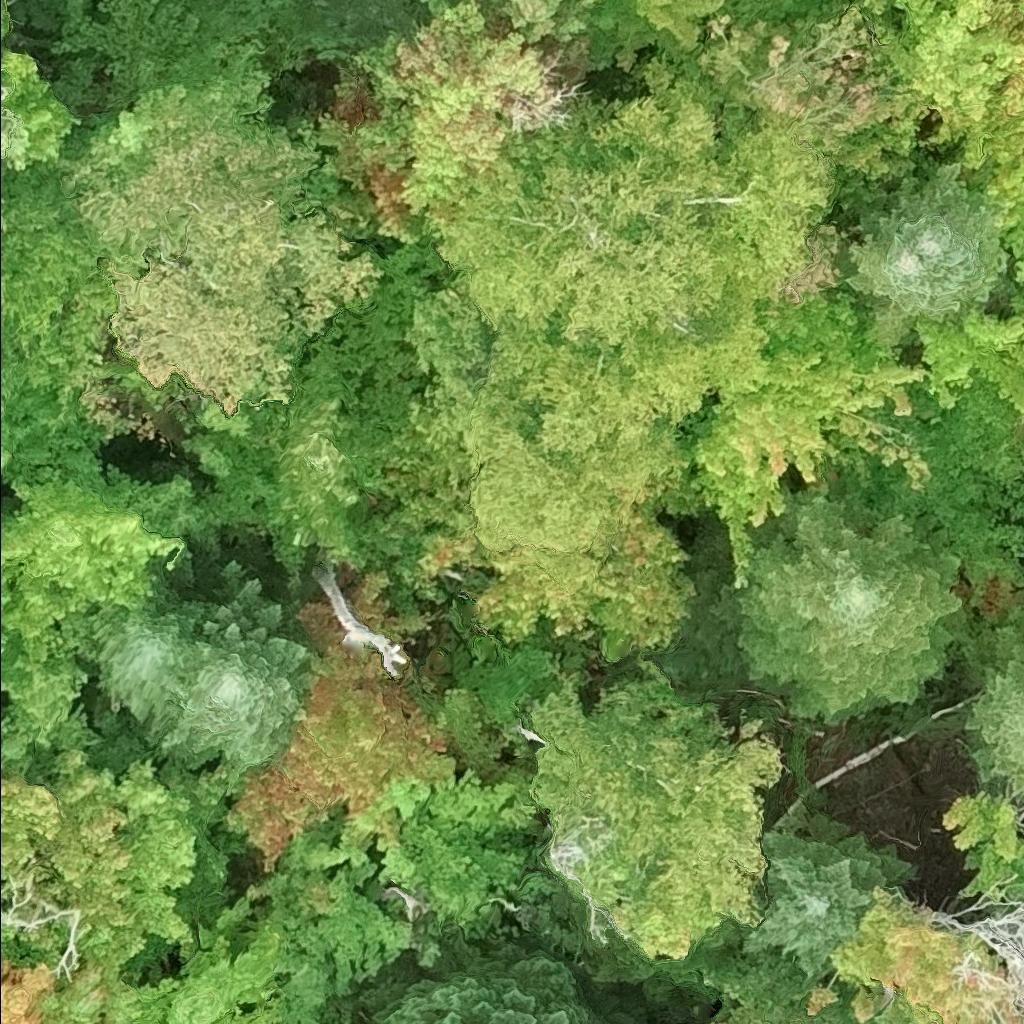crown: (424, 61, 837, 343), (75, 102, 384, 418), (468, 271, 789, 554), (525, 650, 785, 963), (668, 480, 973, 729), (224, 565, 461, 875), (690, 284, 931, 585), (304, 0, 591, 248), (184, 347, 397, 573), (671, 0, 931, 184), (0, 744, 198, 984), (472, 481, 703, 660), (149, 555, 320, 772), (868, 0, 1023, 235), (251, 807, 412, 1023), (737, 798, 916, 991), (839, 159, 1011, 347), (346, 760, 548, 920), (0, 453, 199, 611), (70, 32, 279, 178), (809, 884, 1023, 1023), (48, 0, 292, 118), (0, 158, 118, 390), (354, 925, 629, 1023), (98, 896, 299, 1023), (917, 217, 1023, 427), (92, 575, 223, 743), (0, 577, 99, 758), (664, 921, 828, 1023), (154, 760, 251, 928), (0, 353, 113, 487), (956, 600, 1023, 808), (484, 0, 657, 70), (946, 790, 1023, 903), (295, 0, 424, 47), (630, 0, 731, 54), (35, 957, 108, 1023), (0, 950, 56, 1023), (0, 74, 24, 159), (315, 993, 356, 1023), (1019, 502, 1023, 520), (0, 216, 5, 230), (1023, 767, 1023, 767)
